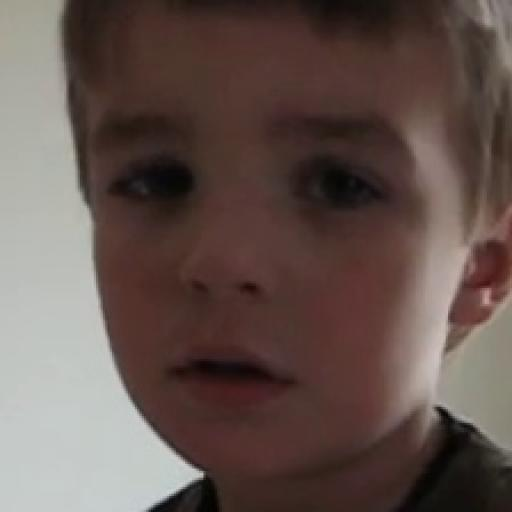Autism: (61, 13, 512, 469)
